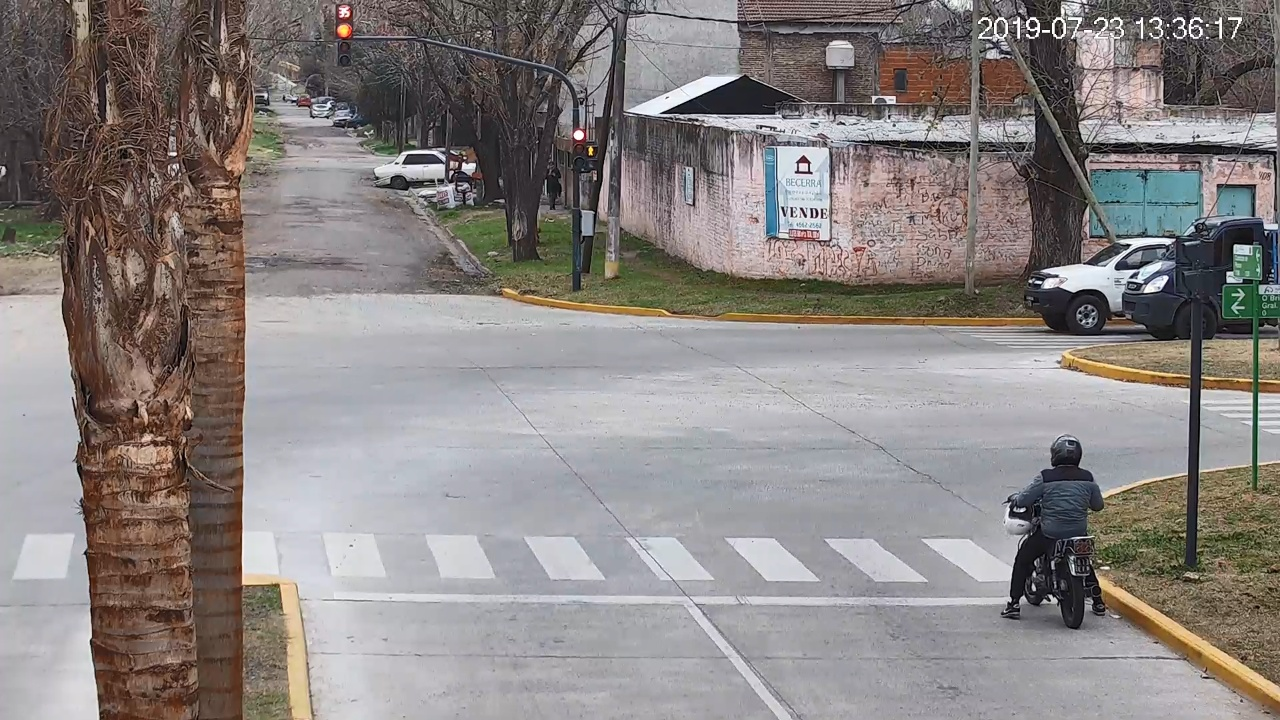motorcycle: (1002, 467, 1104, 628)
traffic light: (337, 22, 352, 66), (572, 128, 585, 169)
